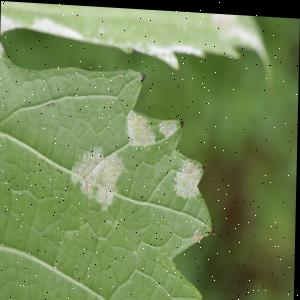Folha: (0, 57, 221, 300)
Fungo: (70, 141, 125, 210), (70, 142, 103, 198), (171, 154, 205, 198), (125, 107, 155, 144), (158, 116, 178, 136), (191, 224, 205, 241), (40, 100, 54, 108), (139, 71, 145, 82), (210, 222, 216, 233), (199, 293, 207, 300), (179, 117, 184, 126)
